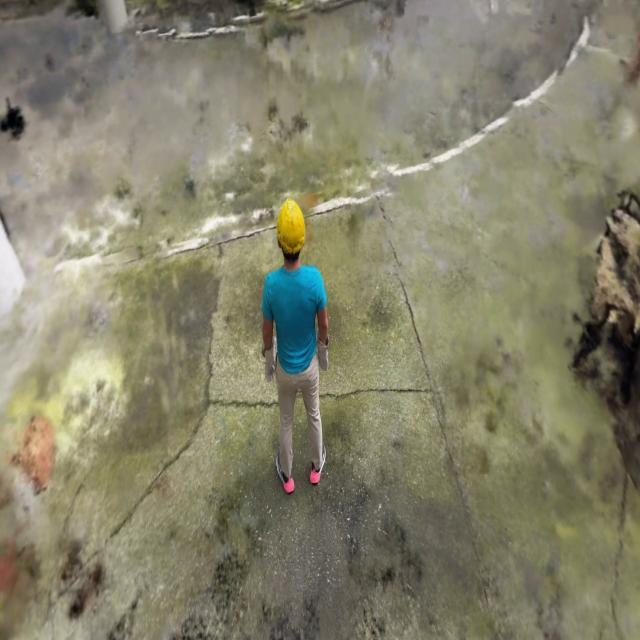gloves: (258, 340, 276, 386), (314, 340, 332, 378)
helmet: (274, 198, 306, 250)
